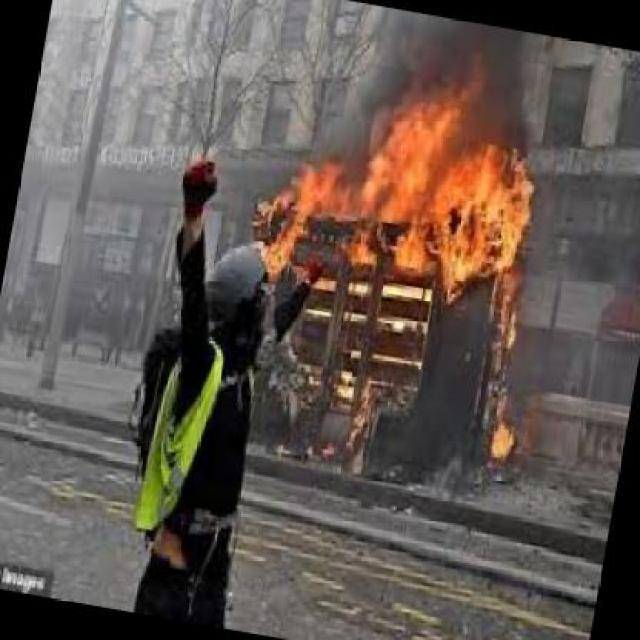Fire: (242, 98, 535, 291)
Smoke: (312, 18, 528, 102)
